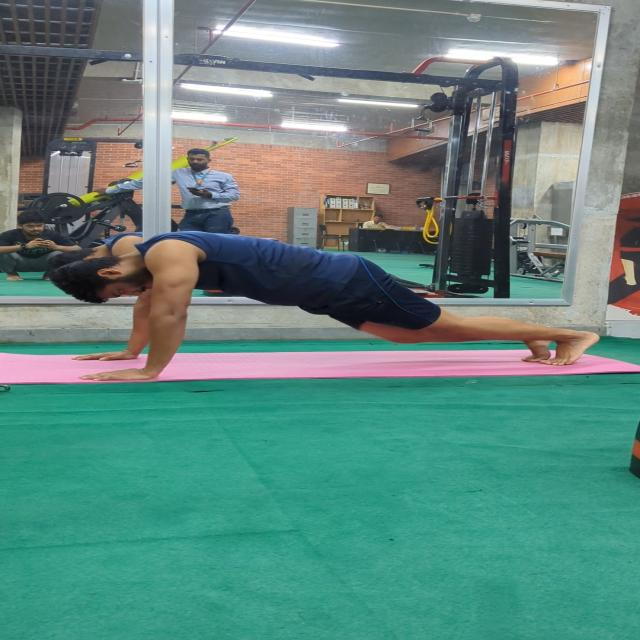Normal_MountainClimbers: (71, 208, 614, 400)
